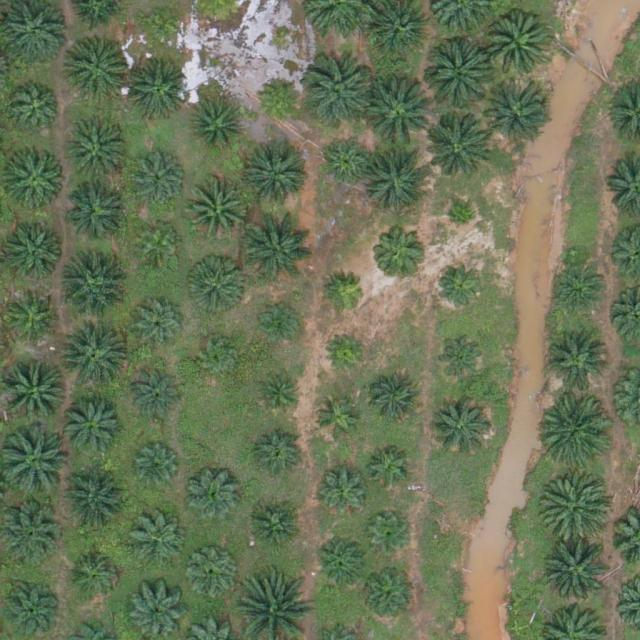Healthy: (539, 471, 610, 542), (56, 469, 127, 540), (544, 540, 614, 611), (542, 394, 612, 465), (3, 358, 73, 429), (57, 251, 127, 322), (57, 322, 127, 393), (481, 77, 551, 148), (422, 40, 493, 110), (420, 113, 491, 183), (362, 77, 432, 148), (366, 145, 436, 216), (246, 214, 316, 284), (482, 10, 552, 80), (305, 58, 375, 128), (4, 223, 67, 286), (67, 123, 130, 186), (124, 59, 187, 122), (430, 398, 492, 461), (62, 399, 124, 462), (4, 146, 66, 209), (65, 37, 128, 99), (66, 180, 128, 243), (186, 180, 248, 243), (187, 254, 249, 317), (247, 142, 309, 205), (547, 329, 609, 392), (436, 331, 491, 387), (252, 429, 307, 484), (244, 501, 299, 556), (316, 464, 371, 519), (359, 568, 414, 623), (4, 582, 59, 637), (68, 548, 123, 603), (186, 549, 241, 604), (320, 137, 375, 192), (8, 286, 63, 341), (129, 369, 184, 424), (133, 296, 188, 351), (190, 100, 245, 155), (434, 258, 489, 313), (373, 223, 428, 278), (369, 372, 424, 427), (315, 536, 369, 591), (187, 468, 241, 523), (131, 514, 185, 569), (11, 83, 65, 138), (132, 150, 186, 205), (551, 259, 605, 314)
Small: (256, 75, 303, 123), (367, 513, 414, 561), (138, 3, 185, 51), (323, 271, 370, 318), (134, 445, 181, 492), (136, 221, 183, 268), (257, 302, 304, 349), (314, 396, 361, 443), (197, 336, 244, 383), (369, 448, 416, 495), (323, 331, 370, 378), (256, 372, 303, 419), (446, 205, 477, 236)
